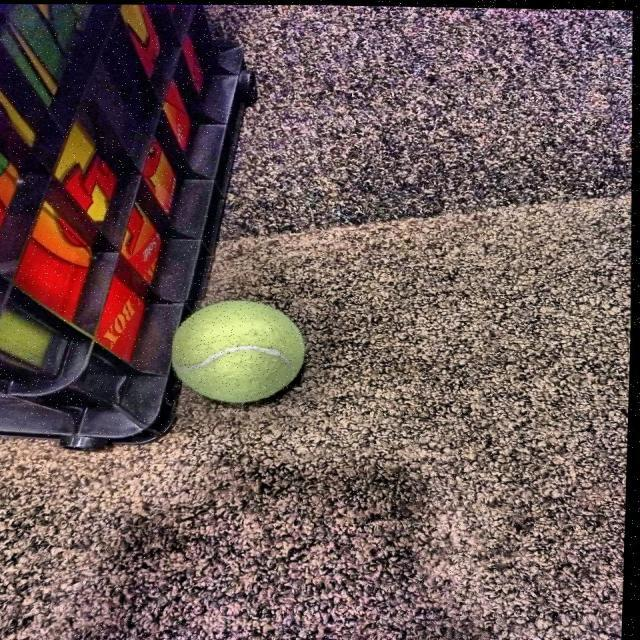tennis-ball: (172, 298, 320, 417)
